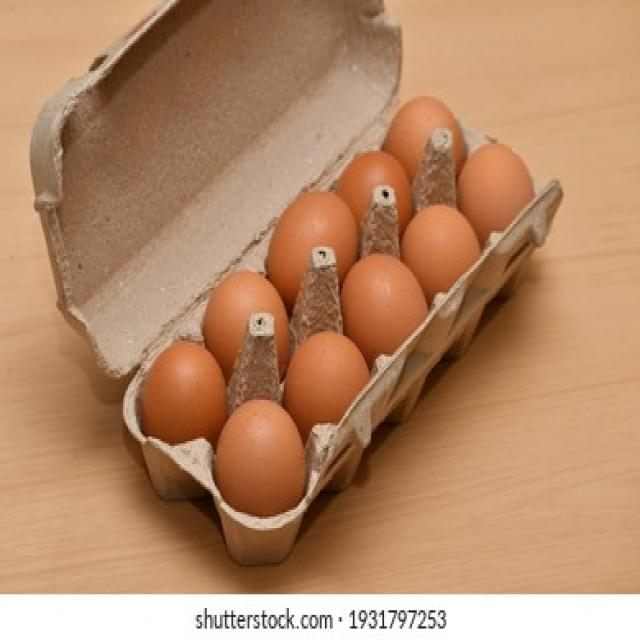Brown Egg: (217, 398, 303, 515), (269, 176, 353, 282), (136, 341, 224, 439), (465, 127, 544, 230), (200, 269, 290, 356), (340, 244, 422, 336), (286, 328, 364, 416), (408, 193, 478, 289), (388, 102, 465, 174), (336, 155, 414, 221)
